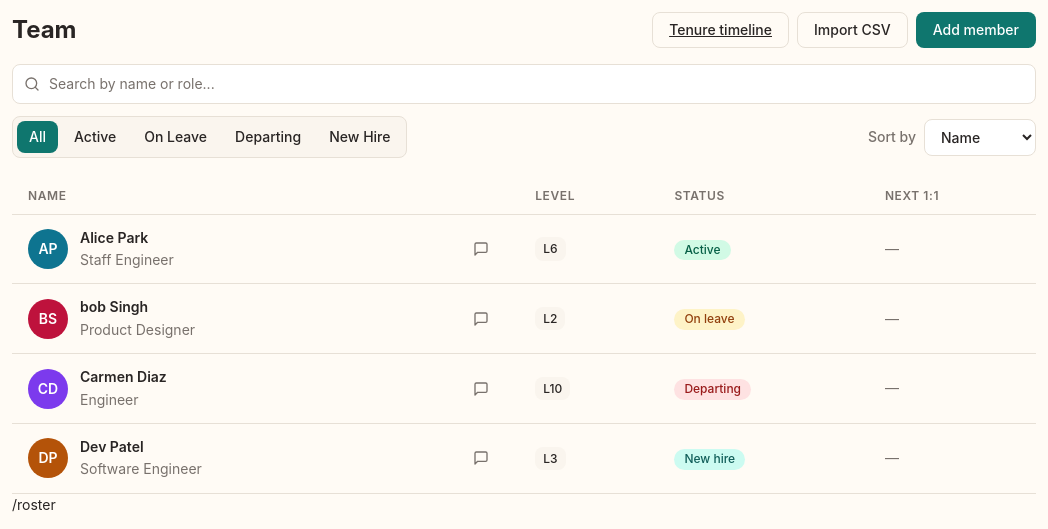
Scenario: Roster › search with no matches shows "No members found" message
Type "zzznonexistent" into the search field at (524, 84), box [12,64,1036,104]
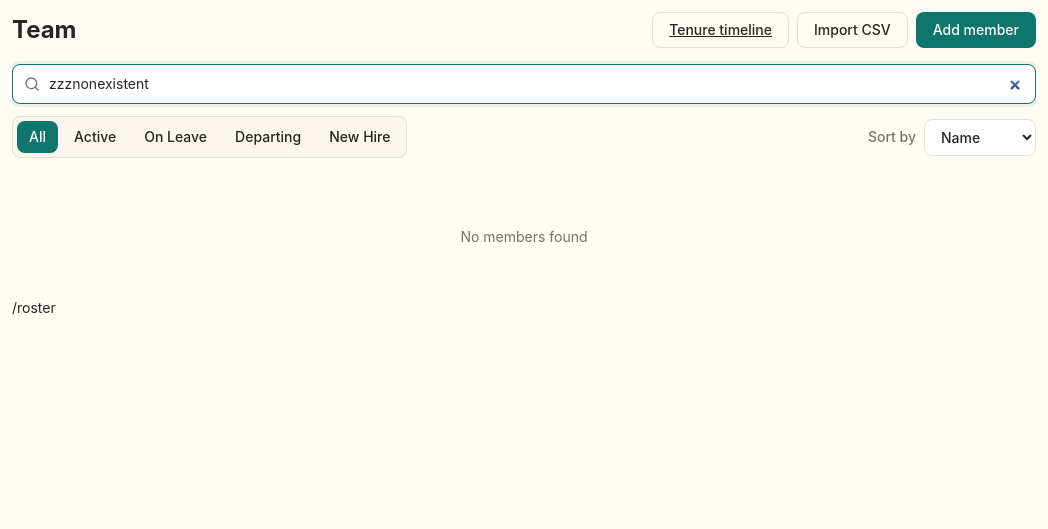
Expected: the element named "Filter by status" is shown, [12,116,408,158]
Expected: the text "No members found" is shown, [460,228,588,245]
Expected: the row with test id "member-row" is gone
